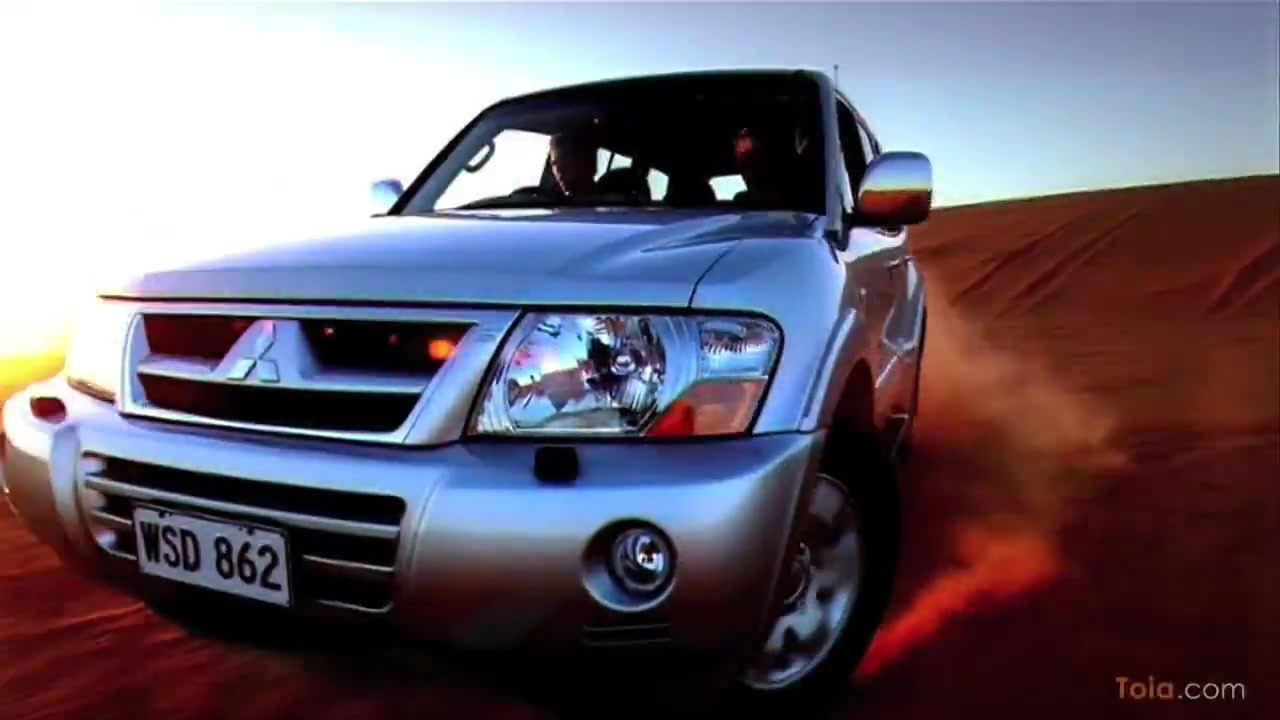car: (6, 64, 929, 708)
